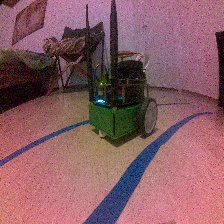rob: (87, 58, 158, 140)
